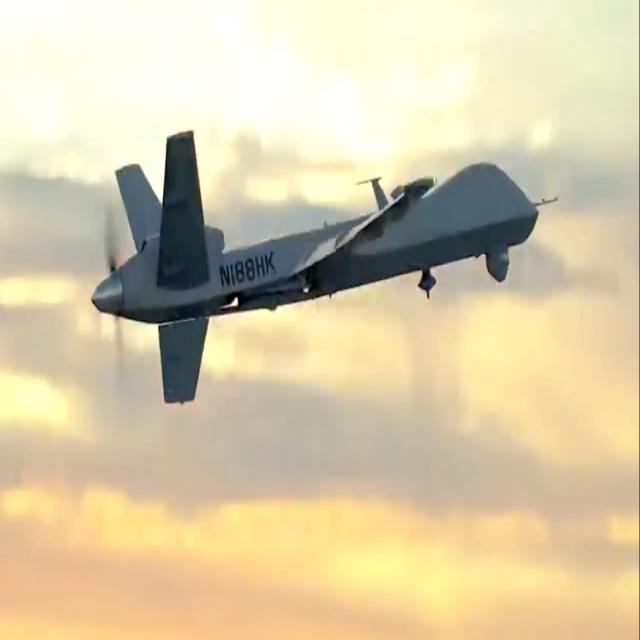drones: (77, 98, 565, 420)
